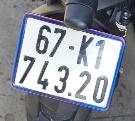0: (90, 72, 111, 106)
1: (90, 37, 109, 70)
2: (73, 69, 95, 101)
3: (51, 63, 74, 96)
4: (34, 59, 56, 91)
6: (34, 23, 54, 57)
7: (47, 25, 69, 60), (17, 53, 39, 86)
K: (74, 33, 97, 68)
